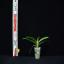leaf: (23, 38, 38, 46), (25, 36, 38, 44), (29, 45, 38, 54), (38, 37, 49, 44), (38, 40, 49, 46), (37, 37, 40, 43)
